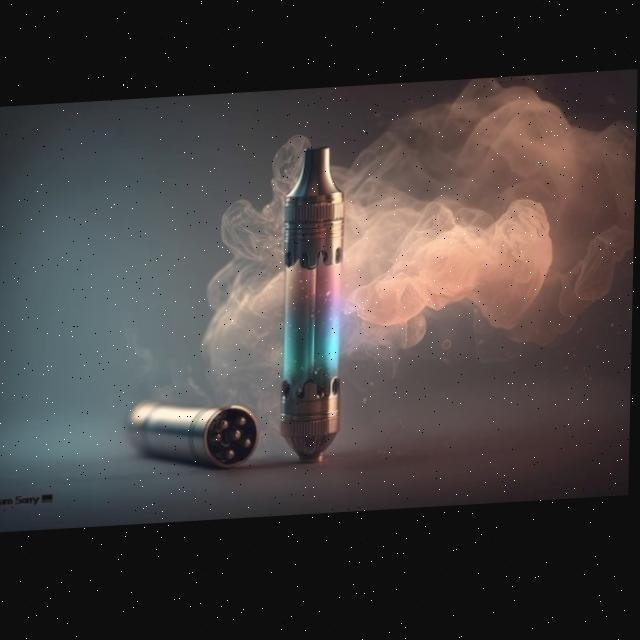vape: (283, 151, 348, 469)
